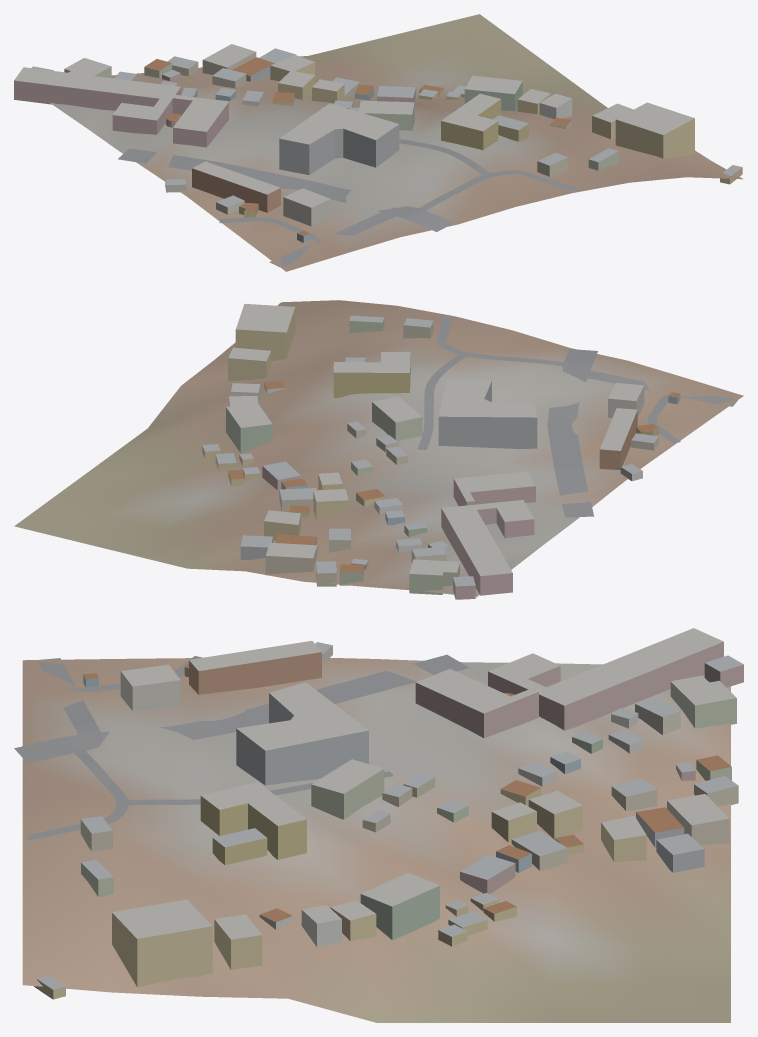
The picture shows the model from 3 angles, top to bottom: view 1: azimuth 30°, elevation 25°; view 2: azimuth 150°, elevation 25°; view 3: azimuth 270°, elevation 25°; orthographic projection. The views are drawn at different scales.
Visible parts, largest first — view 1: Lo; view 2: Lo; view 3: Lo.
Part boxes in pixels (bbox=[...]): Lo: bbox=[14, 14, 743, 271]; Lo: bbox=[14, 300, 743, 599]; Lo: bbox=[14, 628, 743, 1022].
Bounding box in the file's own units: 274 × 42.3 × 264.
